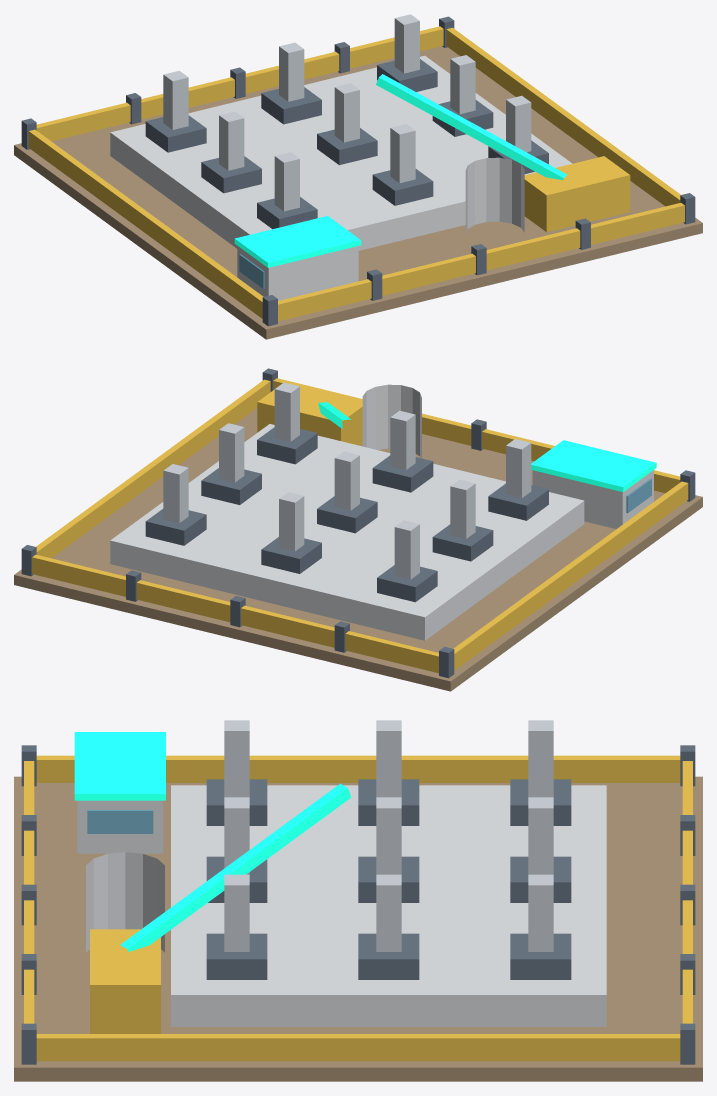
Rendered from stage_3_foundations.glb.
3 views of the same model, one above another, from view 1: azimuth 30°, elevation 25°; view 2: azimuth 150°, elevation 25°; view 3: azimuth 270°, elevation 25° (orthographic). The views are drawn at different scales.
Visible parts, largest first — view 1: stage_3_foundations; view 2: stage_3_foundations; view 3: stage_3_foundations.
Part boxes in pixels (bbox=[...]): stage_3_foundations: bbox=[14, 14, 702, 339]; stage_3_foundations: bbox=[14, 368, 702, 691]; stage_3_foundations: bbox=[14, 720, 702, 1081].
Bounding box in the file's own units: 2.72 × 0.7035 × 2.72.
